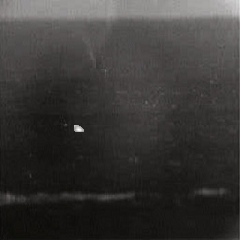Target: (72, 124, 85, 134)
